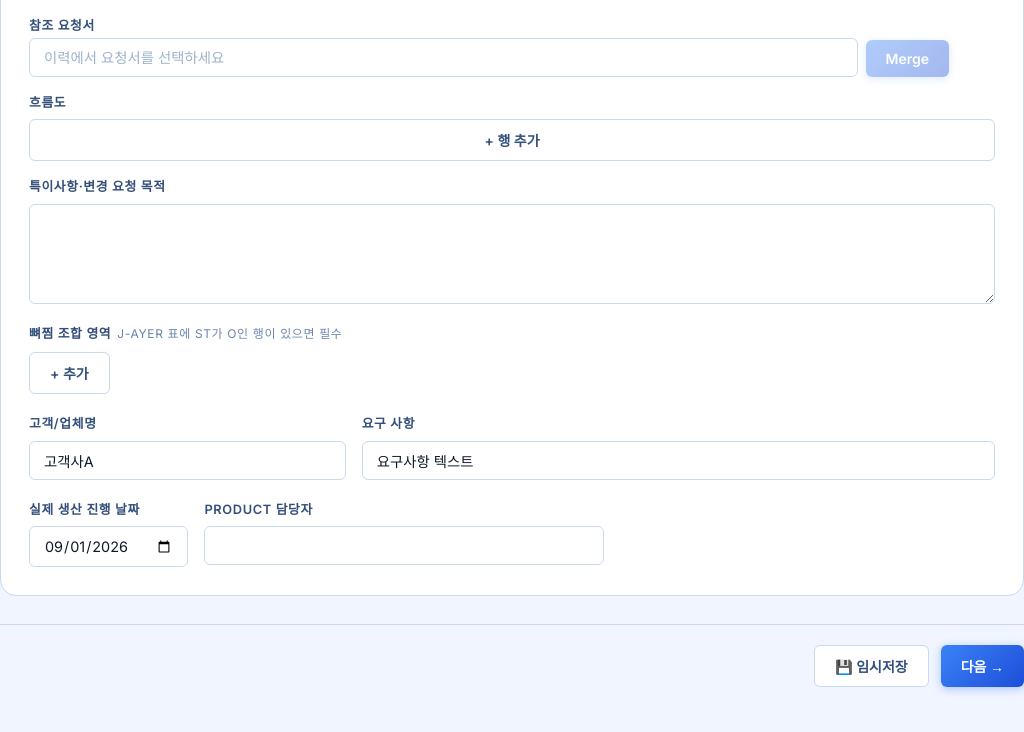
Scenario: 'Overlay만 변경' — 참조 요청서 필수 › '있음'에서 Merge 하지 않으면 STEP1 을 넘어가지 못하고 오류를 표시한다
(page scrolled)
Check: the field showing "고객사A" below "고객/업체명" is shown, box [29,441,346,480]
What coordinates should you click on to do the following:
click the button "다음 →"
I would click on:
 (982, 666)
Its box is [941,645,1023,687].
(page scrolled)
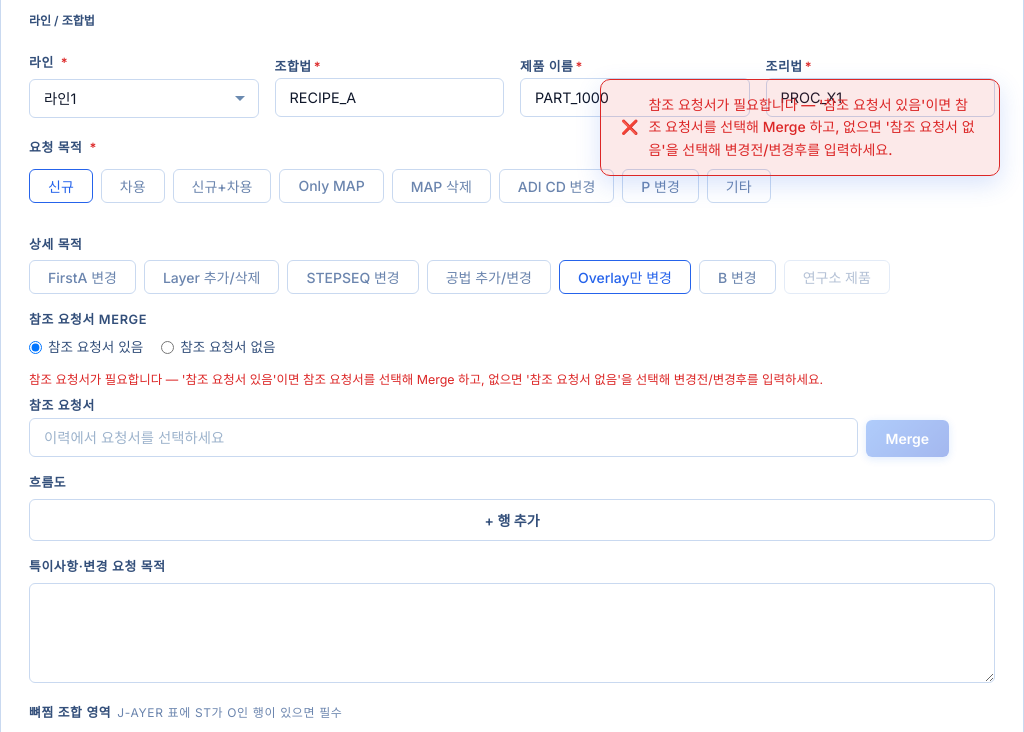
Check: the element with class "toast-error" shows "참조 요청서가 필요합니다 — '참조 요청서 있음'이면 참조 요청서를 선택해 Merge 하고, 없으면 '참조 요청서 없음'을 선택해 변경전/변경후를 입력하세요.", box [648,96,975,158]
Check: the text with class "form-error" shows "참조 요청서가 필요합니다 — '참조 요청서 있음'이면 참조 요청서를 선택해 Merge 하고, 없으면 '참조 요청서 없음'을 선택해 변경전/변경후를 입력하세요.", box [29,372,823,387]
